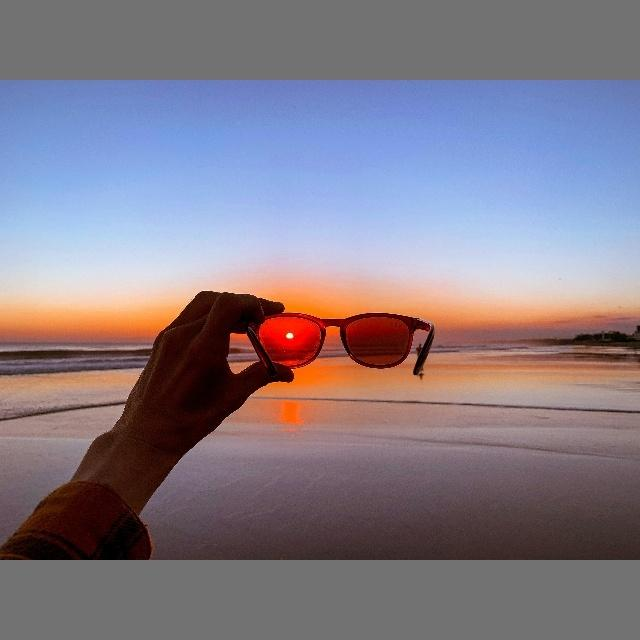Sunglasses: (253, 301, 442, 375)
